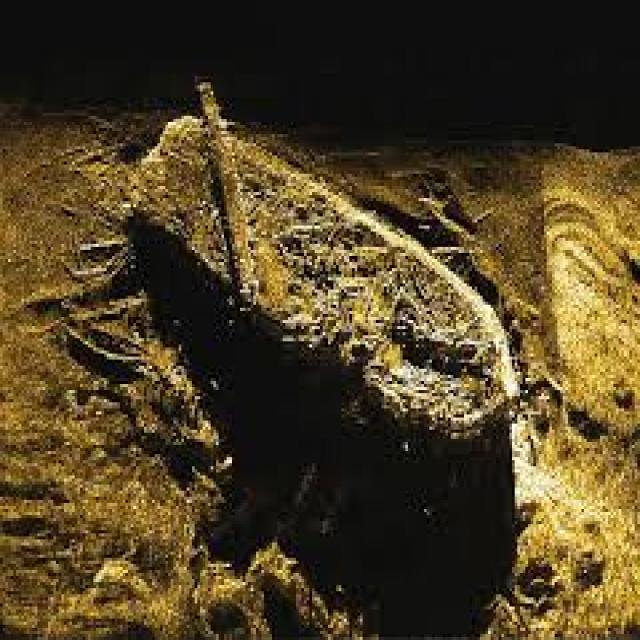ship: (131, 70, 536, 445)
